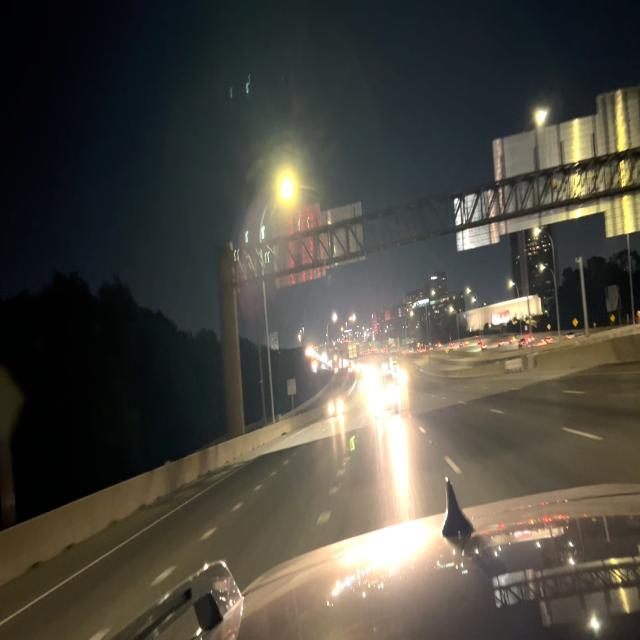back-of-sign: (453, 86, 640, 251), (271, 201, 365, 289), (285, 374, 297, 398)
